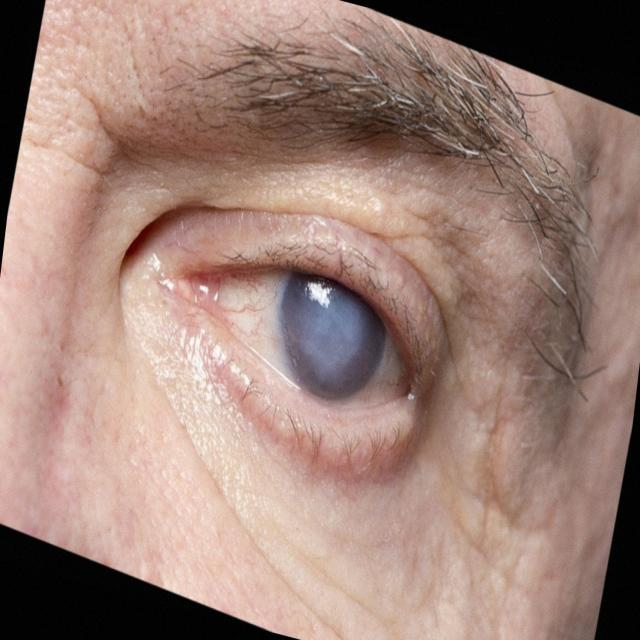Cataract: (262, 227, 411, 440)
